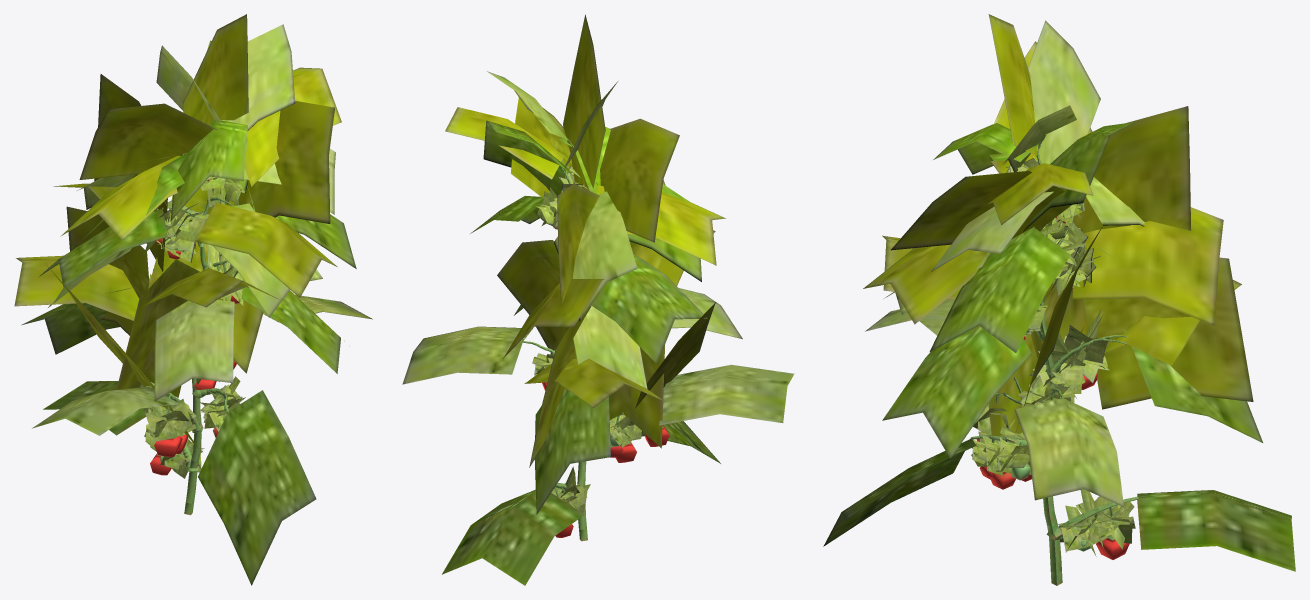
Rendered from plant_model_1_fbx.fbx.
3 views of the same model, side by side, from view 1: azimuth 30°, elevation 25°; view 2: azimuth 150°, elevation 25°; view 3: azimuth 270°, elevation 25° (orthographic). The views are drawn at different scales.
Parts seen in each view (by area): view 1: Tomato_P; view 2: Tomato_P; view 3: Tomato_P.
Part boxes in pixels (bbox=[...]): Tomato_P: bbox=[14, 14, 372, 585]; Tomato_P: bbox=[402, 14, 794, 585]; Tomato_P: bbox=[823, 14, 1295, 585].
Bounding box in the file's own units: 3.24 × 4.47 × 3.27.
1 material, 1 textured.
